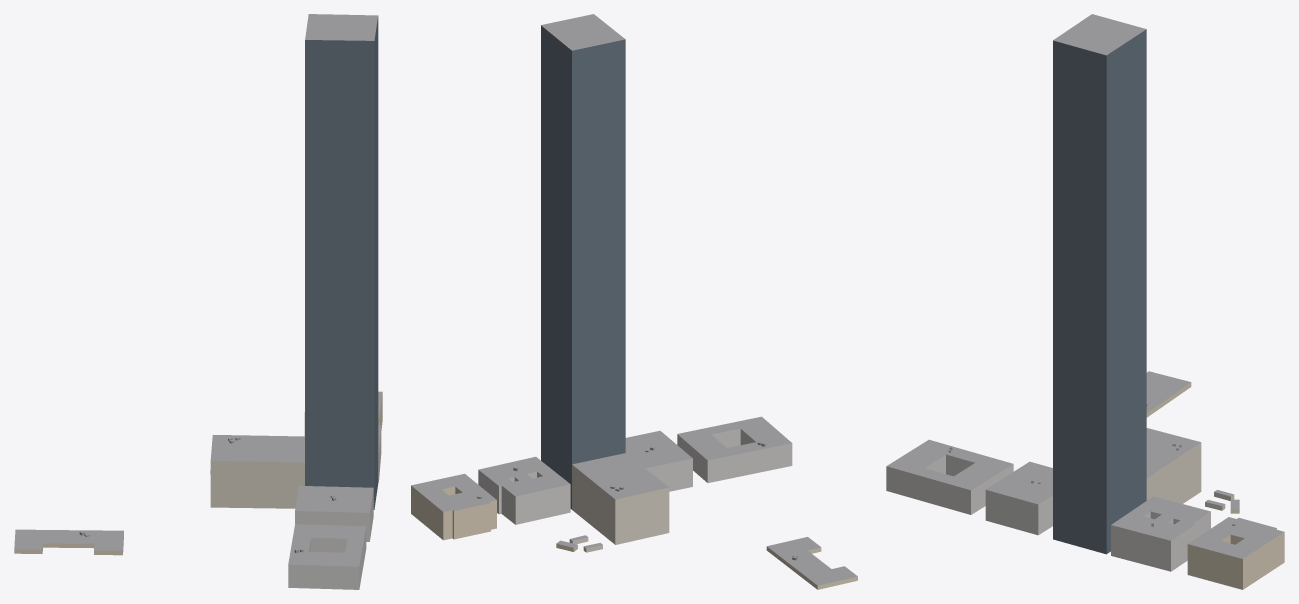
The model's file is building_-5_-1.glb.
3 views of the same model, side by side, from view 1: azimuth 30°, elevation 25°; view 2: azimuth 150°, elevation 25°; view 3: azimuth 270°, elevation 25° (orthographic). The views are drawn at different scales.
Parts seen in each view (by area): view 1: glass_dark, roof, concrete_warm, concrete_light, sandstone; view 2: glass_dark, roof, concrete_light, concrete_warm, sandstone; view 3: glass_dark, roof, concrete_light, sandstone, concrete_warm.
Part boxes in pixels (left/top/right/bottom): glass_dark: left=305, top=16, right=378, bottom=509; roof: left=14, top=14, right=382, bottom=566; concrete_warm: left=210, top=461, right=304, bottom=508; concrete_light: left=288, top=426, right=381, bottom=589; sandstone: left=14, top=393, right=382, bottom=555; glass_dark: left=541, top=25, right=625, bottom=509; roof: left=411, top=14, right=857, bottom=585; concrete_light: left=478, top=428, right=792, bottom=524; concrete_warm: left=569, top=464, right=669, bottom=552; sandstone: left=411, top=485, right=857, bottom=589; glass_dark: left=1053, top=29, right=1146, bottom=554; roof: left=887, top=14, right=1283, bottom=558; concrete_light: left=886, top=454, right=1210, bottom=571; sandstone: left=1146, top=382, right=1284, bottom=589; concrete_warm: left=1146, top=442, right=1234, bottom=510.
Bounding box in the file's own units: 297 × 323 × 234.
